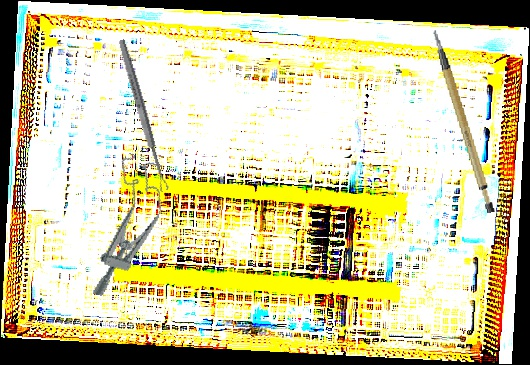Scalpel Handle: (431, 24, 498, 218)
Speculum: (81, 151, 176, 306)
Surgical Spoon: (116, 38, 170, 193)
